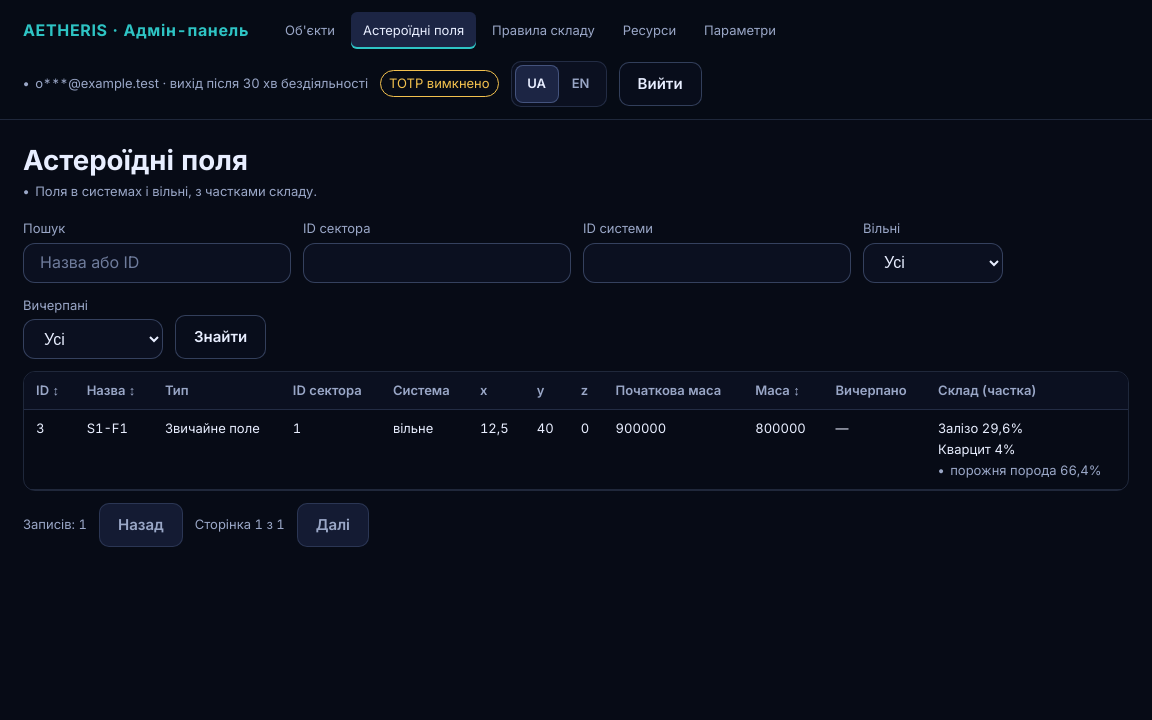
Test: admin cards (task 00009) › shows the errors of the server under the inputs
The width and height of the screenshot is (1152, 720).
Click the text "S1-F1".
click(114, 450)  # box [75,410,153,489]
(page scrolled)
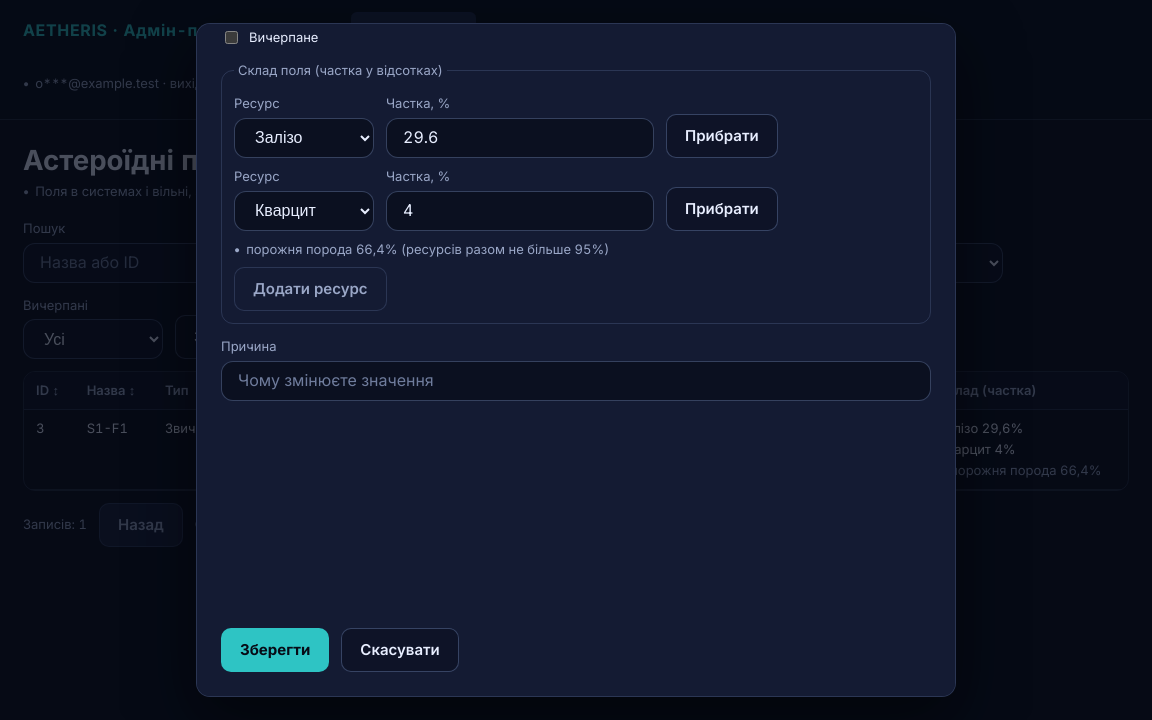
Type "Too much" into the field with placeholder "Чому змінюєте значення".
click(576, 381); type("Too much")  # box [221,361,931,401]
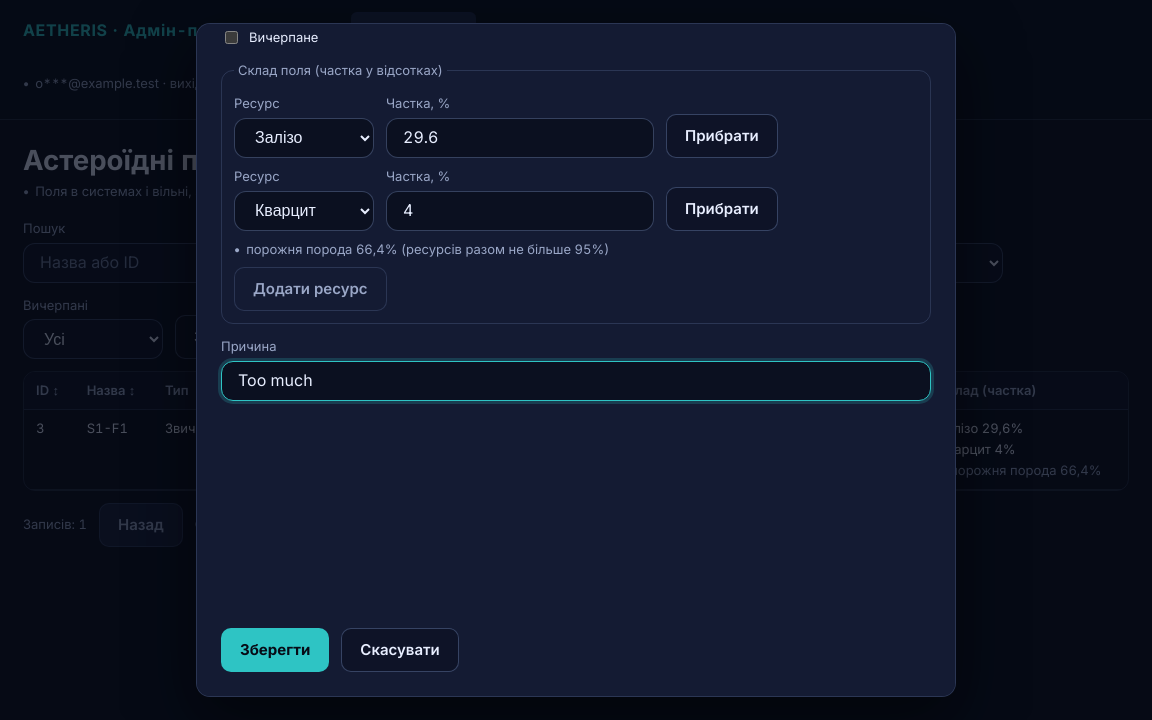
Click the button "Зберегти".
click(275, 650)  # box [221,628,329,672]
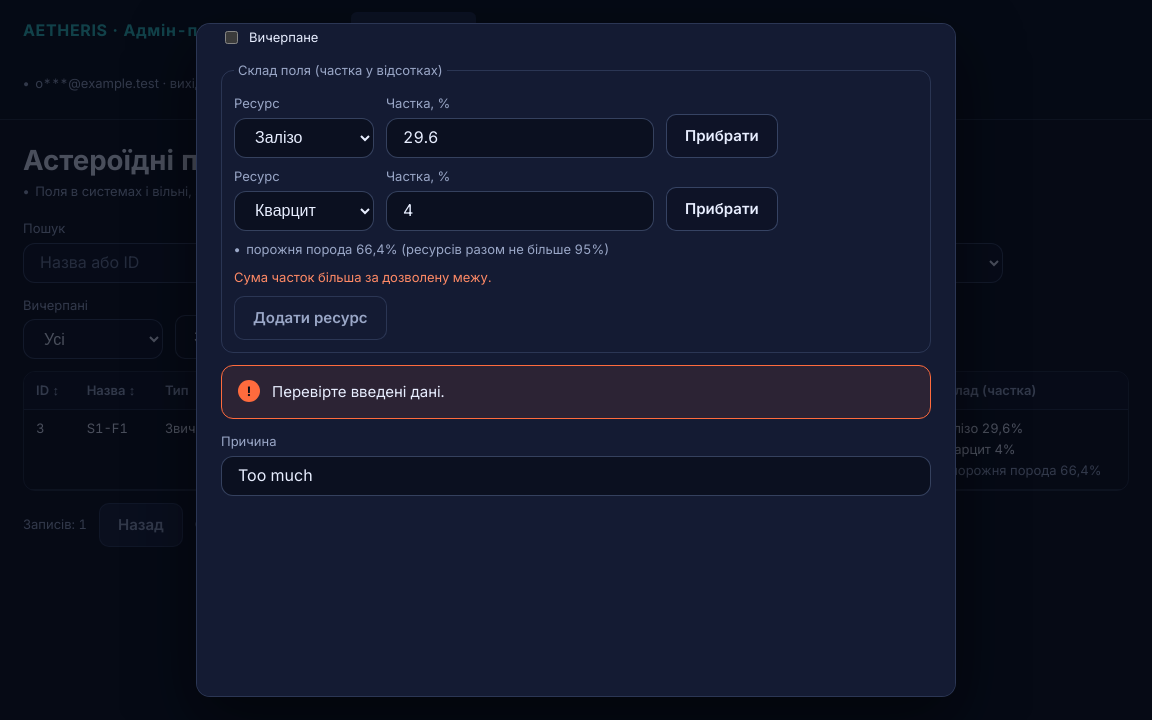
Result: the text "Сума часток більша за дозволену межу." is shown at [234,269,491,285]
